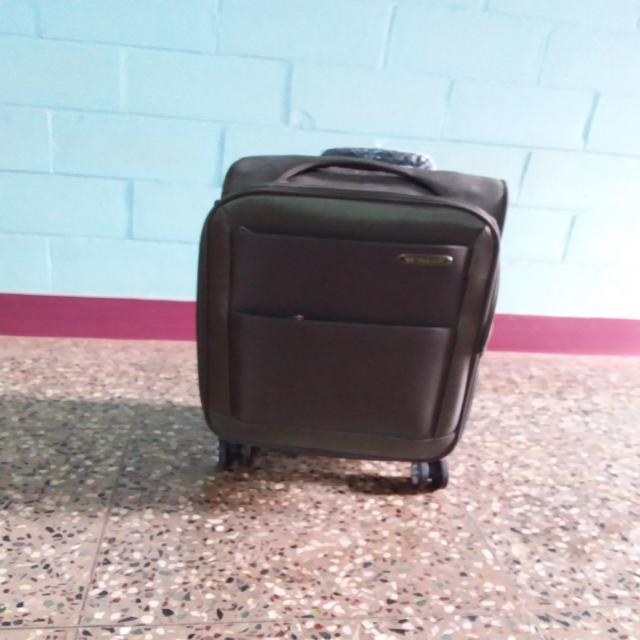suitcaserotation: (192, 144, 512, 490)
